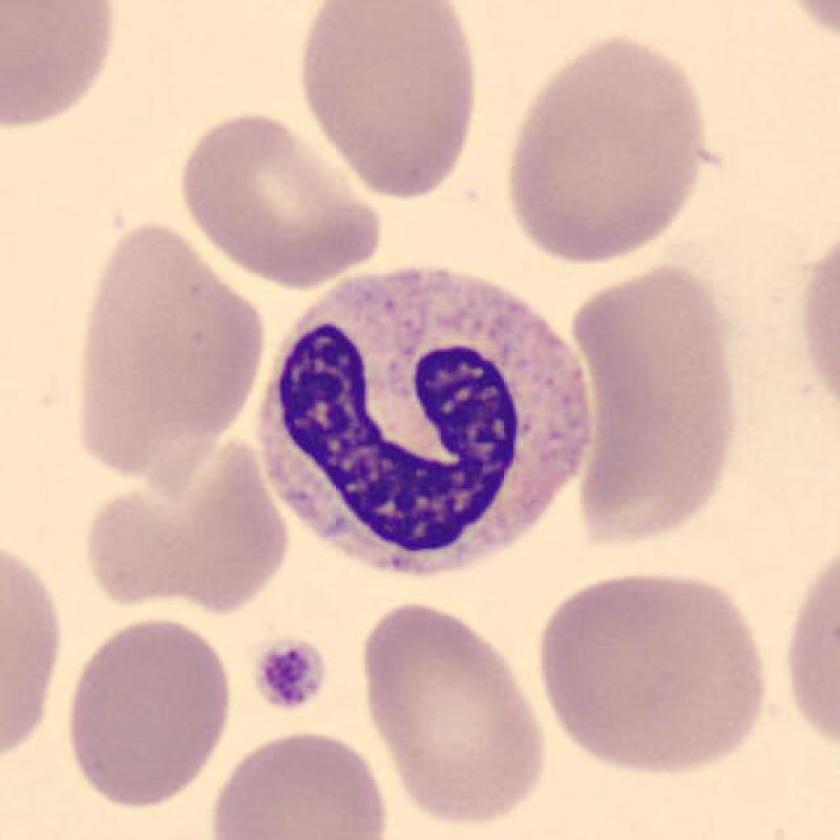neutrophil: (260, 269, 592, 575)
